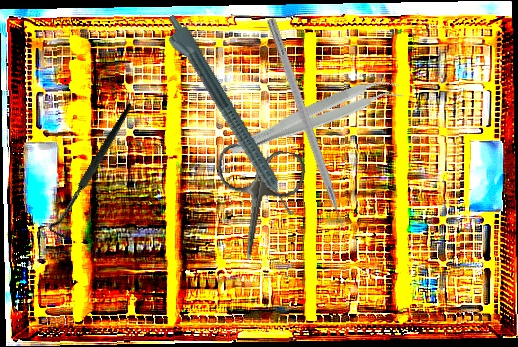Chopper: (254, 17, 352, 246)
Handpiece: (156, 11, 299, 225)
Hook Surgical: (15, 103, 173, 243)
Iris Scissors: (203, 141, 309, 267)
Tissue Forceps: (226, 69, 404, 168)
